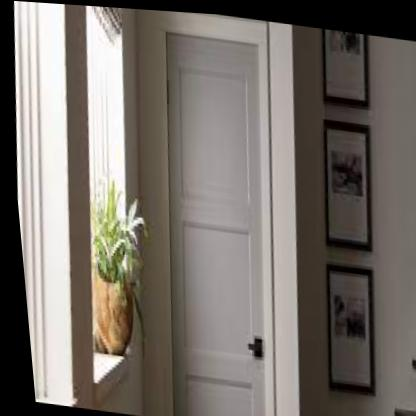Door: (137, 26, 285, 416)
